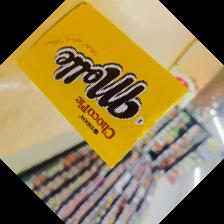Molle: (14, 1, 187, 168)
